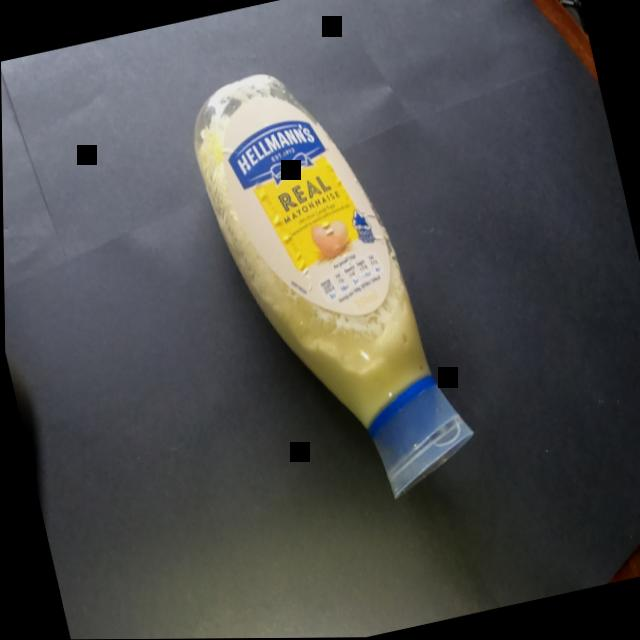Mayonnaise: (166, 26, 513, 560)
